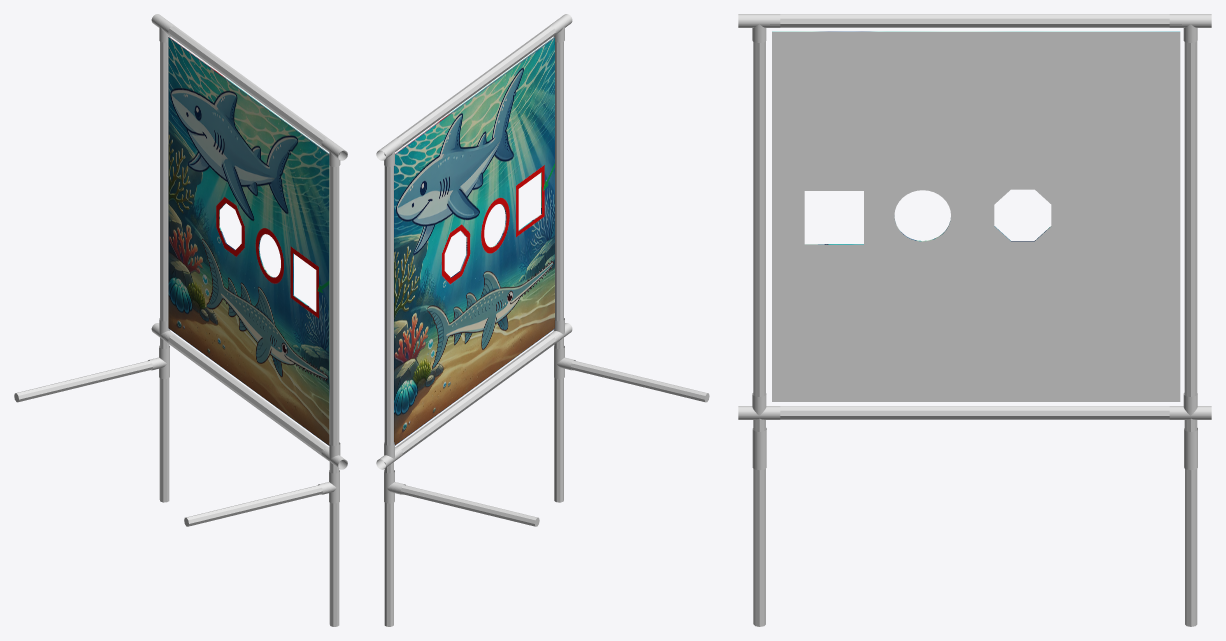
File: mapping_torpedoes.dae
3 views of the same model, side by side, from view 1: azimuth 30°, elevation 25°; view 2: azimuth 150°, elevation 25°; view 3: azimuth 270°, elevation 25° (orthographic). The views are drawn at different scales.
Visible parts, largest first — view 1: Cube, Tee Joint.005, Tee Joint.002, Tee Joint.003, Tee Joint.001, Tee Joint.004; view 2: Cube, Tee Joint.005, Tee Joint.002, Tee Joint.001, Tee Joint.004, Tee Joint.003; view 3: Cube, Tee Joint.002, Tee Joint.001, Tee Joint.004, Tee Joint.003, Tee Joint.005.
Part boxes in pixels (x1,y1,x2,y2): Cube: [168, 36, 329, 445]; Tee Joint.005: [14, 360, 339, 626]; Tee Joint.002: [148, 318, 347, 503]; Tee Joint.003: [329, 154, 339, 473]; Tee Joint.001: [151, 14, 347, 166]; Tee Joint.004: [160, 41, 169, 348]; Cube: [394, 37, 554, 445]; Tee Joint.005: [384, 360, 709, 626]; Tee Joint.002: [376, 318, 575, 503]; Tee Joint.001: [376, 14, 572, 166]; Tee Joint.004: [384, 153, 393, 473]; Tee Joint.003: [554, 42, 563, 348]; Cube: [772, 31, 1180, 401]; Tee Joint.002: [738, 392, 1211, 470]; Tee Joint.001: [738, 14, 1211, 42]; Tee Joint.004: [1184, 41, 1197, 431]; Tee Joint.003: [753, 41, 765, 431]; Tee Joint.005: [753, 469, 1197, 626].
Size of the model in its own units: 0.3401 by 0.719 by 1.02.
Materials: 1 (1 with a texture image).
